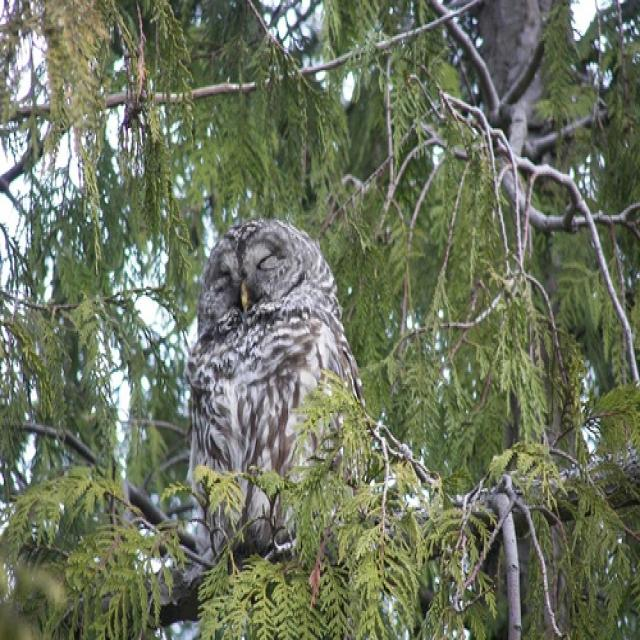bird: (186, 217, 364, 568)
